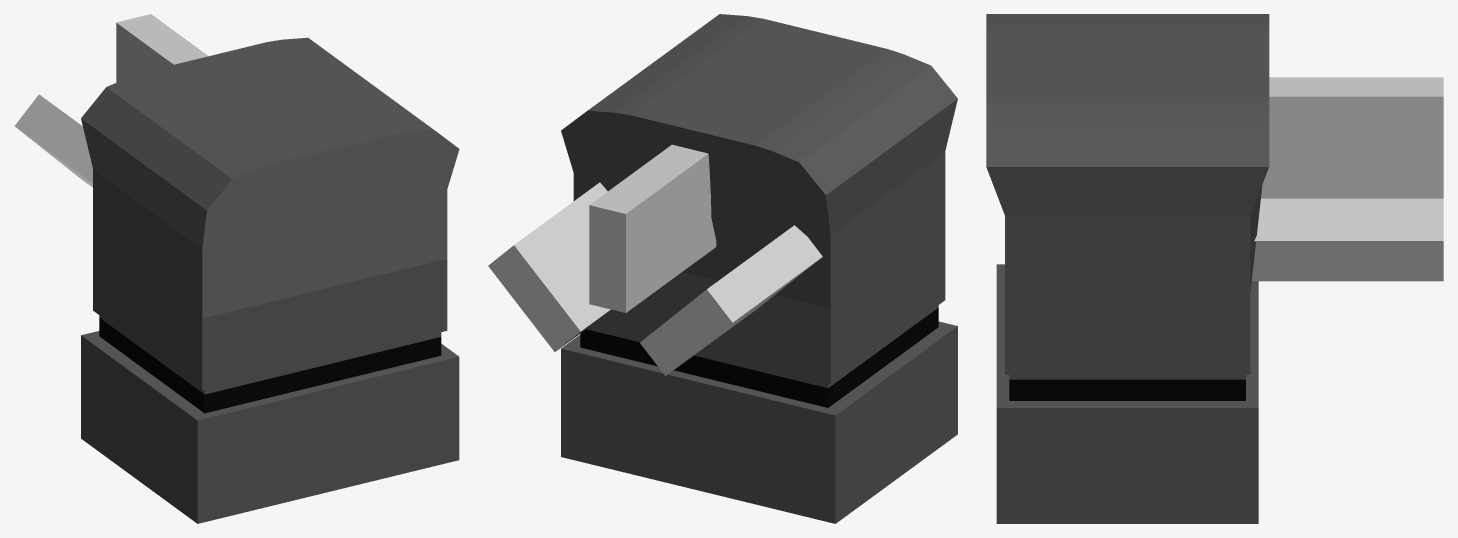
Rendered from 充电器4.fbx.
3 renders of one model, left to right at view 1: azimuth 30°, elevation 25°; view 2: azimuth 150°, elevation 25°; view 3: azimuth 270°, elevation 25°, orthographic. The views are drawn at different scales.
Visible parts, largest first — view 1: 立方体.001; view 2: 立方体.001; view 3: 立方体.001.
Boxes of the visible parts, <box> form: 立方体.001: <box>14,14,459,523</box>; 立方体.001: <box>488,14,957,523</box>; 立方体.001: <box>986,14,1443,523</box>.
Bounding box in the file's own units: 449 × 568 × 605.
1 material, 1 textured.
